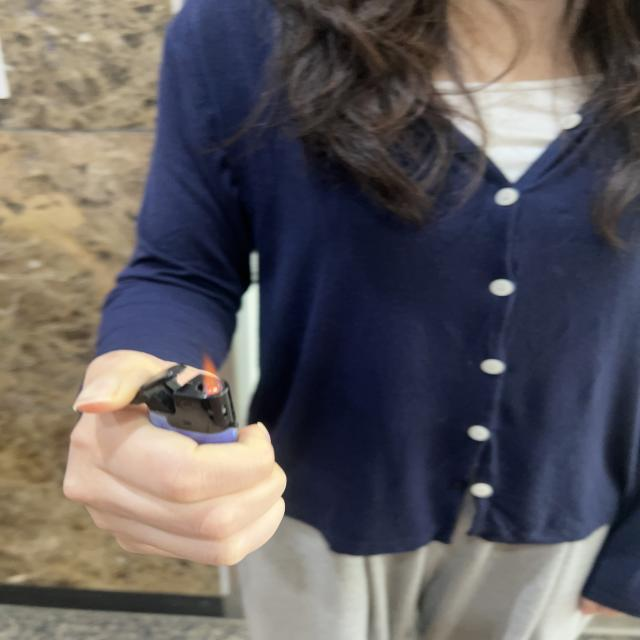fire: (202, 352, 226, 397)
